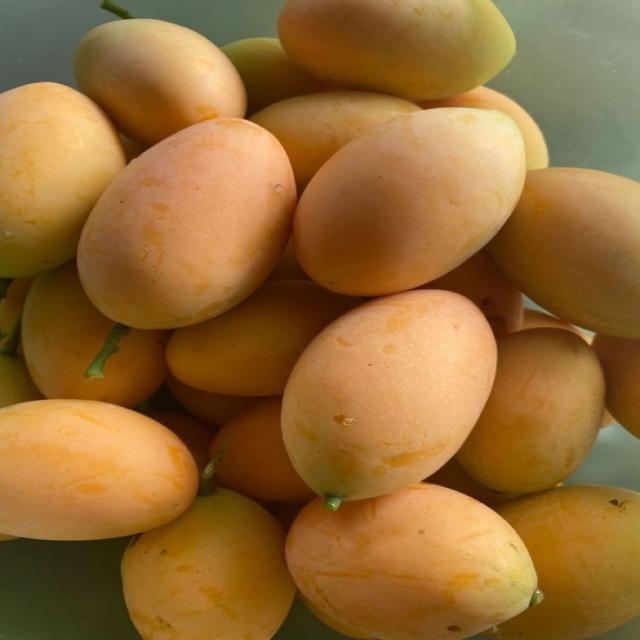mango: (282, 290, 496, 509), (77, 118, 296, 329), (293, 108, 525, 296), (285, 482, 537, 639), (0, 399, 197, 540), (122, 489, 295, 639), (488, 168, 639, 338), (0, 82, 125, 286), (456, 328, 603, 493), (277, 0, 515, 101), (483, 485, 639, 639), (166, 281, 359, 395), (74, 18, 244, 145), (23, 262, 169, 408), (250, 91, 422, 195), (210, 396, 315, 502), (418, 87, 548, 169), (418, 249, 523, 337), (221, 38, 331, 117), (592, 333, 639, 438)
